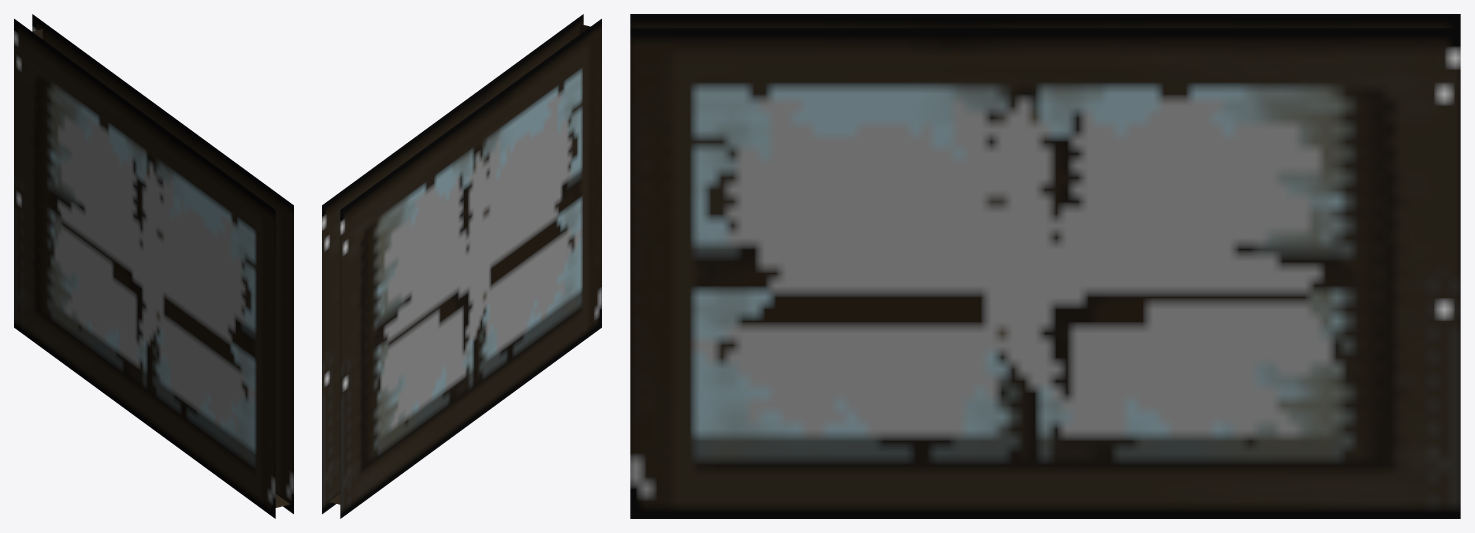
Rendered from pz_native_fixtures_windows_01_4_frame.obj.
3 renders of one model, left to right at view 1: azimuth 30°, elevation 25°; view 2: azimuth 150°, elevation 25°; view 3: azimuth 270°, elevation 25°, orthographic. The views are drawn at different scales.
Visible parts, largest first — view 1: pz_native_fixtures_windows_01_4_frame; view 2: pz_native_fixtures_windows_01_4_frame; view 3: pz_native_fixtures_windows_01_4_frame.
Boxes of the visible parts, x1,y1,x2,y2 form: pz_native_fixtures_windows_01_4_frame: (14, 14, 293, 518); pz_native_fixtures_windows_01_4_frame: (322, 14, 601, 518); pz_native_fixtures_windows_01_4_frame: (630, 14, 1460, 518).
Size of the model in its own units: 0.04 by 0.6406 by 0.9823.
1 material, 1 textured.
